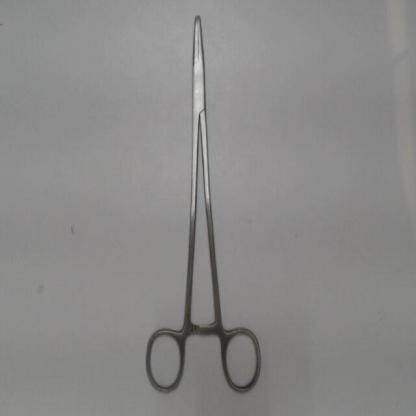8 Mayo Needle Holder: (139, 6, 267, 405)
